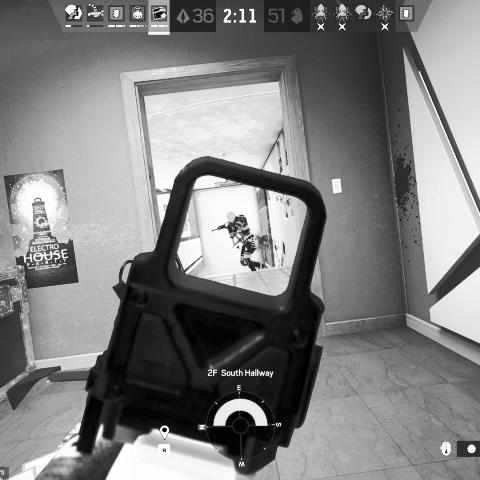Character: (210, 210, 268, 273)
Head: (226, 210, 236, 222)
